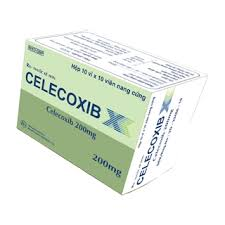Celecoxip: (27, 69, 100, 120)
